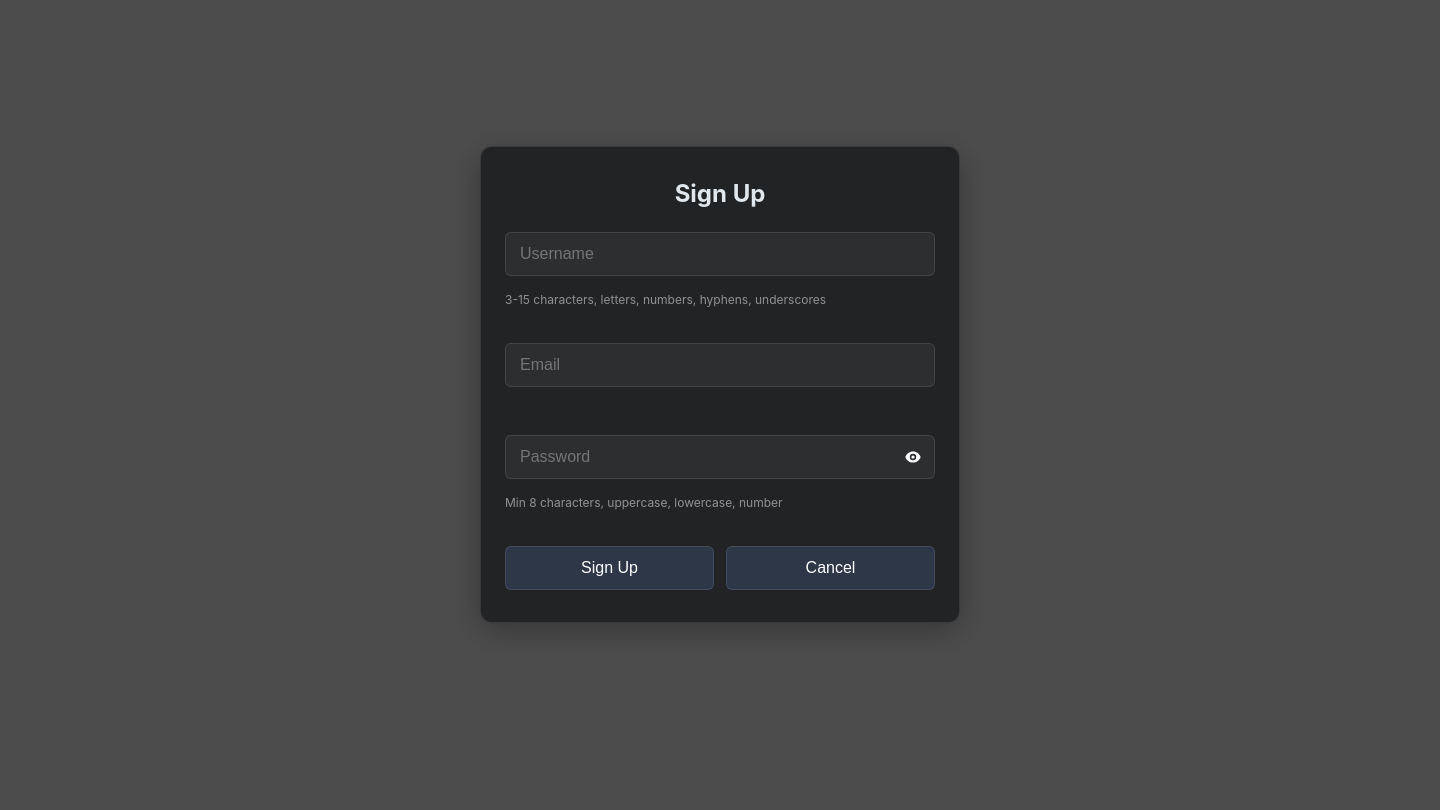
Test case: SignupModal › displays password strength indicator when password is entered
Expected: the text "Weak" is not shown
Note: Enter weak password
Type "pass" into the password field with placeholder "Password" at (720, 457), box [505, 435, 935, 479]
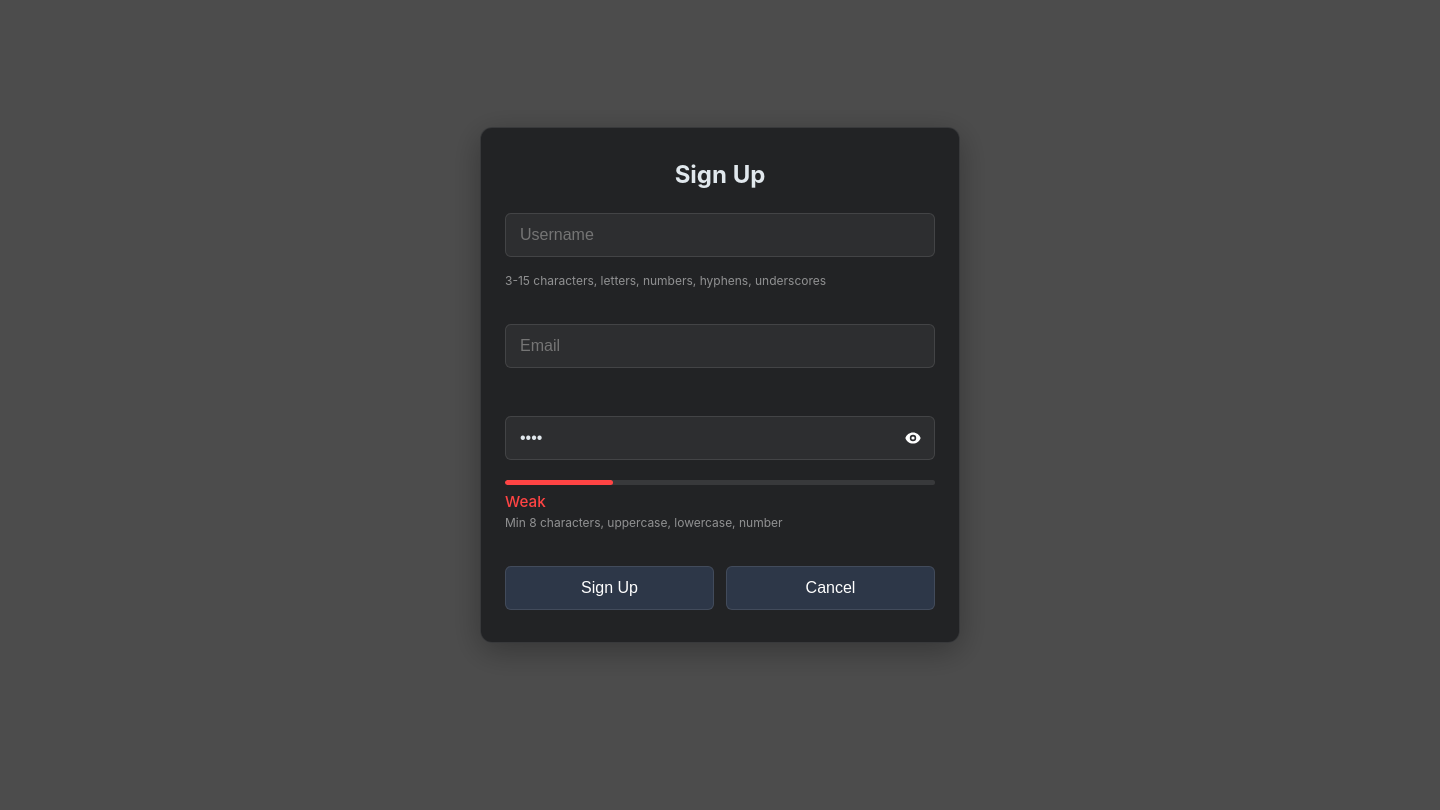
Result: the text "Weak" is shown at [505, 492, 546, 511]
Note: Enter strong password
Type "Password123" into the password field with placeholder "Password" at (720, 438), box [505, 416, 935, 460]
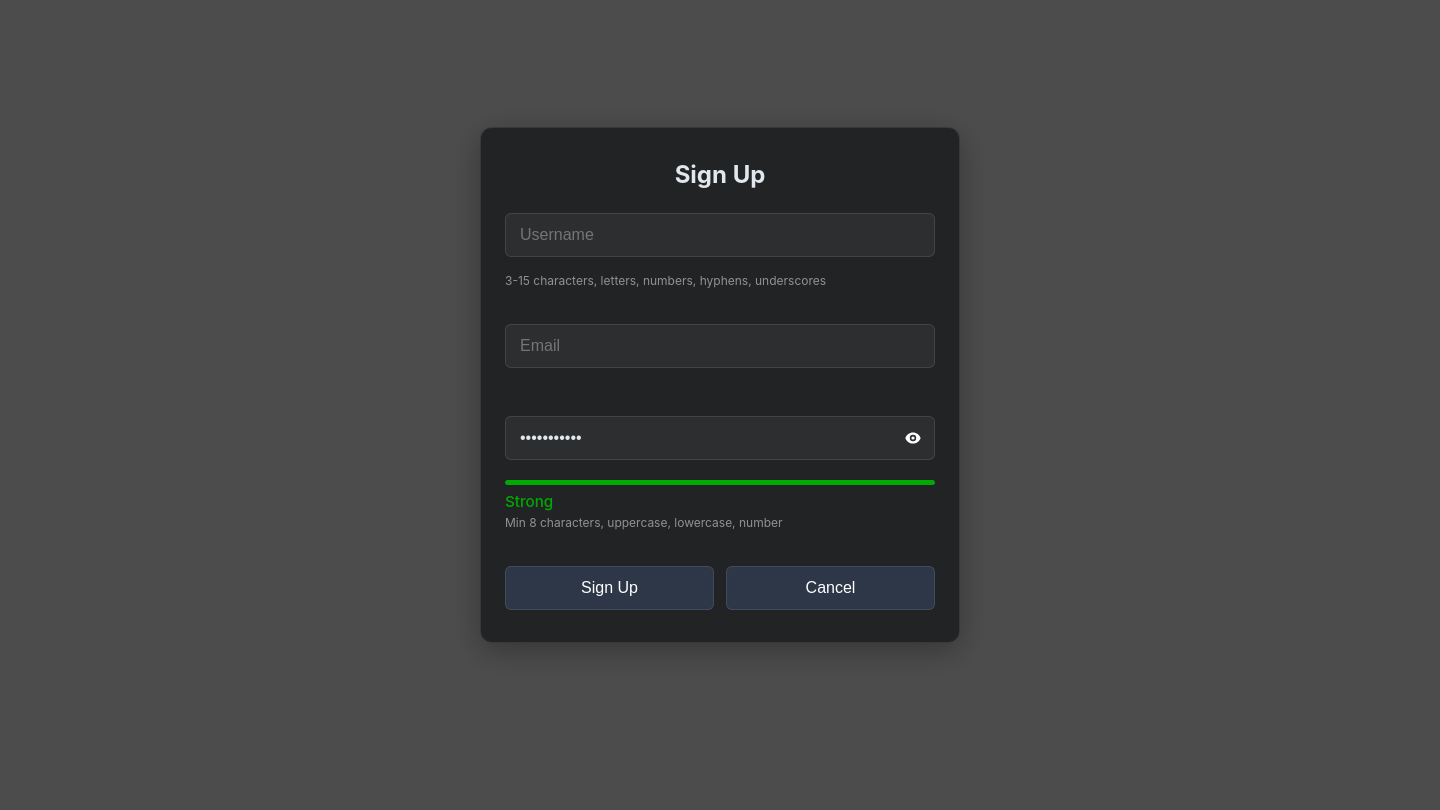
Result: the text "Strong" is shown at [505, 492, 553, 511]
